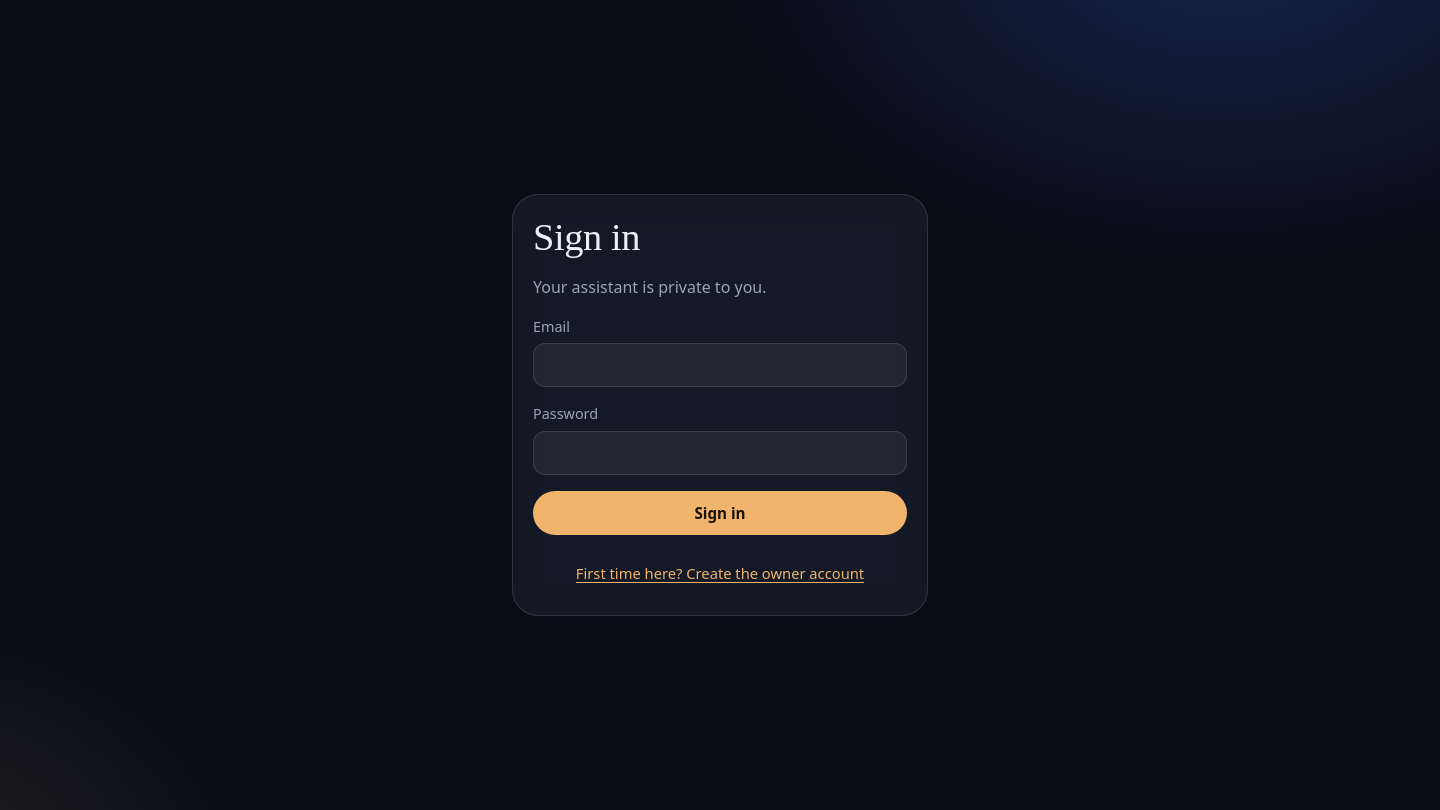
it: AuthGate › shows the server message for wrong credentials and stores nothing
Type "owner@example.test" into the field labelled "Email" at (720, 366), box [533,344,907,388]
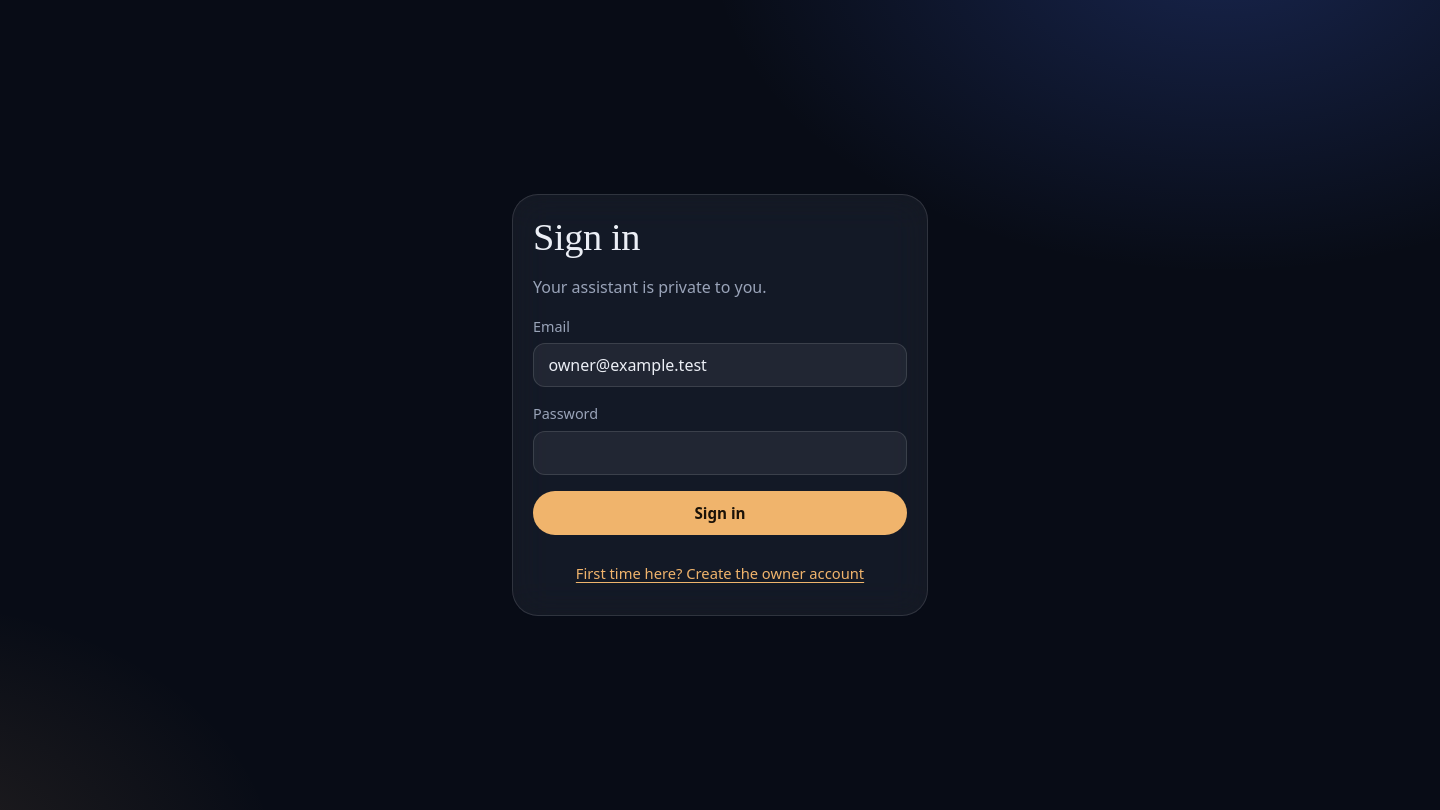
Type "wrong" into the password field labelled "Password" at (720, 453), box [533,431,907,475]
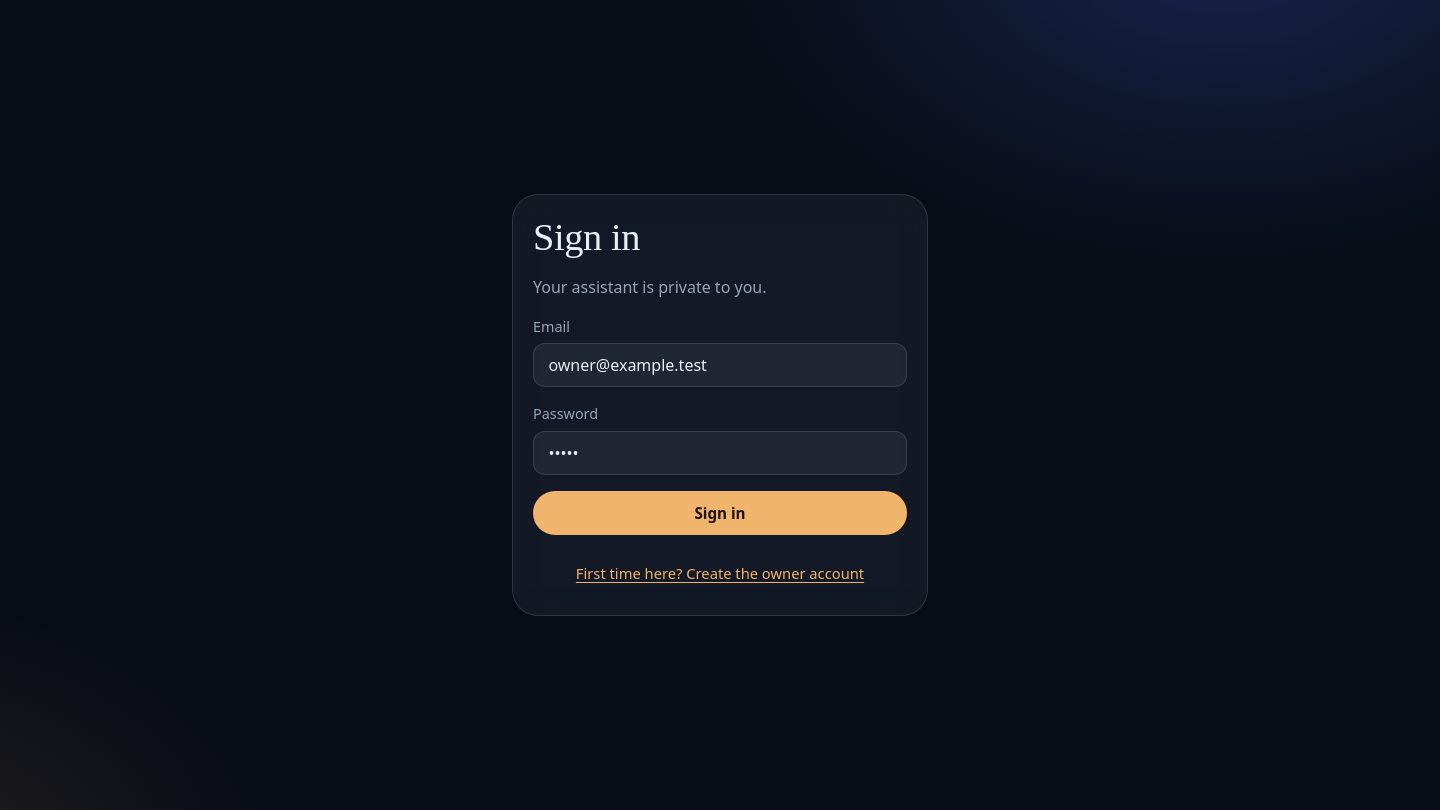
Click the button "Sign in" at (720, 513), box [533,491,907,535]
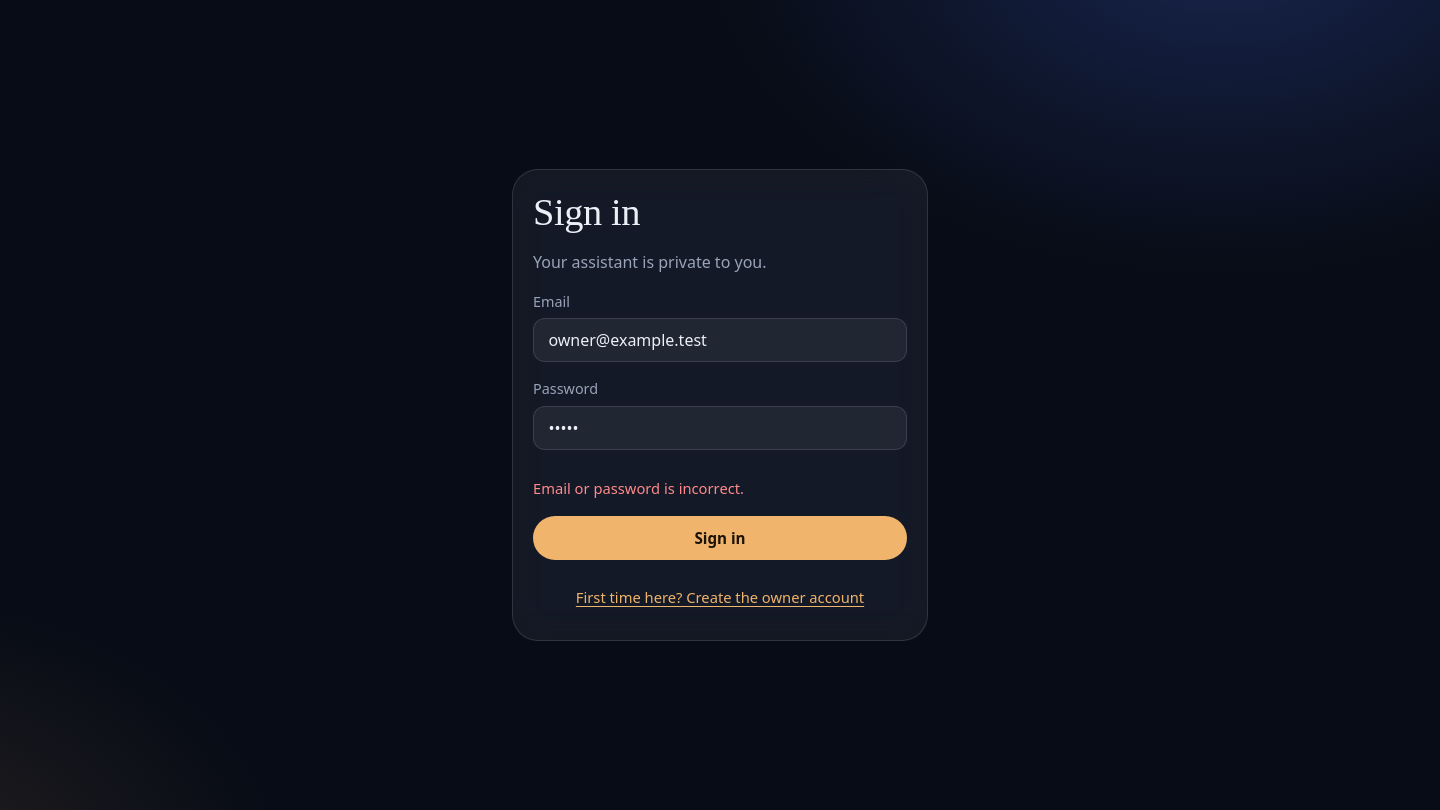
Result: the message reads "Email or password is incorrect." at [533,478,744,498]
